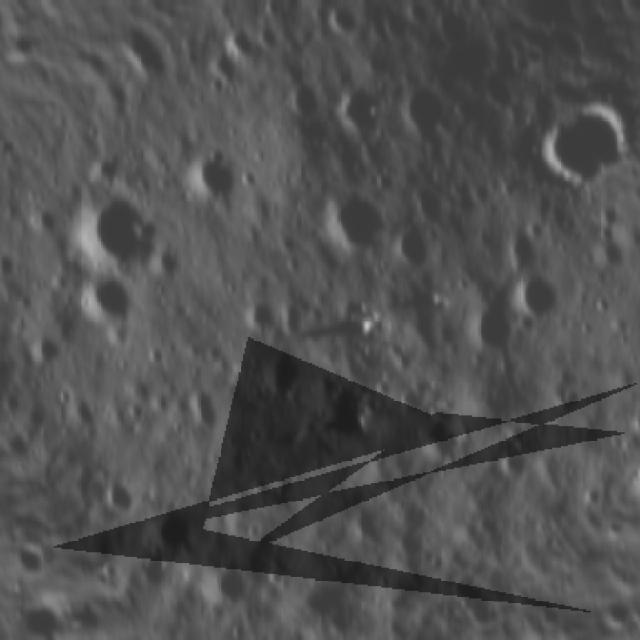crater: (60, 165, 186, 292), (525, 115, 612, 210), (314, 182, 404, 273), (174, 134, 260, 220), (319, 74, 404, 158), (458, 287, 542, 371), (72, 263, 154, 348), (405, 400, 486, 485), (241, 335, 321, 414), (382, 72, 460, 152), (500, 261, 578, 339), (192, 548, 268, 623), (140, 496, 212, 569), (378, 213, 448, 287), (188, 38, 257, 108), (175, 378, 237, 444), (496, 221, 558, 282), (59, 386, 118, 448), (16, 326, 75, 386), (276, 69, 335, 128), (92, 472, 148, 531), (229, 289, 286, 346), (212, 14, 268, 72), (125, 41, 182, 97), (323, 0, 371, 45), (0, 137, 32, 174)
